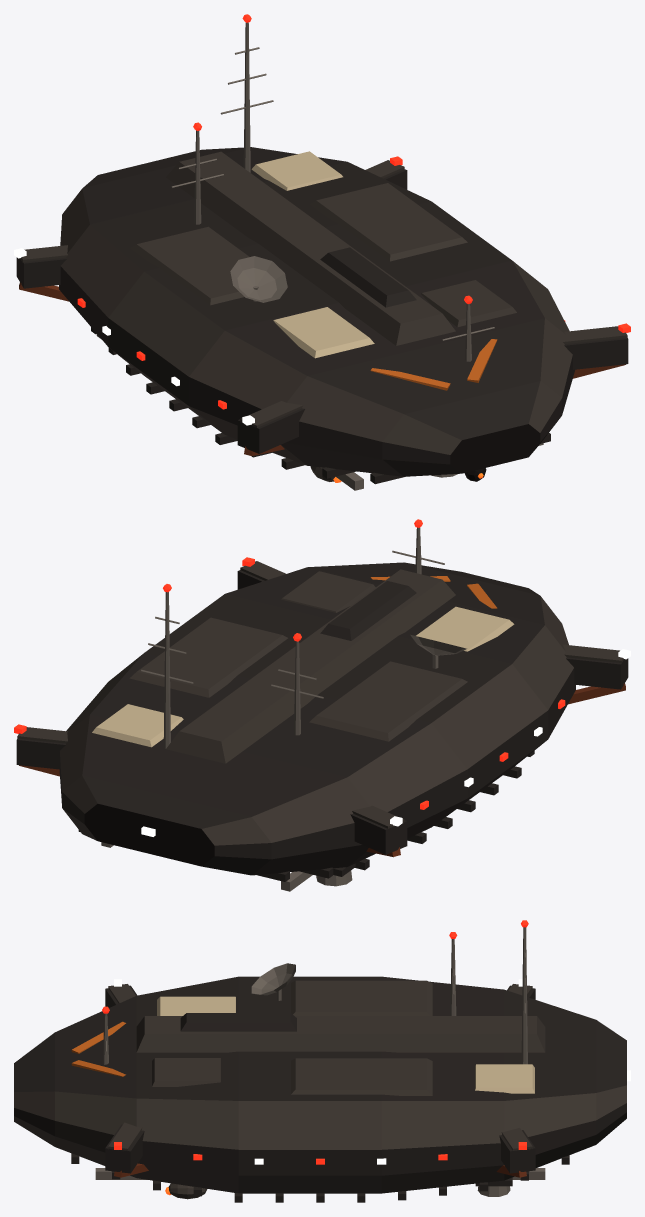
The model's file is carrier.glb.
3 renders of one model, top to bottom at view 1: azimuth 30°, elevation 25°; view 2: azimuth 150°, elevation 25°; view 3: azimuth 270°, elevation 25°, orthographic. The views are drawn at different scales.
Visible parts, largest first — view 1: Carrier_Hull; view 2: Carrier_Hull; view 3: Carrier_Hull.
Part boxes in pixels (x1=…): Carrier_Hull: x1=14, y1=14, x2=630, y2=490; Carrier_Hull: x1=14, y1=519, x2=630, y2=891; Carrier_Hull: x1=14, y1=920, x2=630, y2=1202.
Size of the model in its own units: 38.49 by 28.46 by 60.4.
